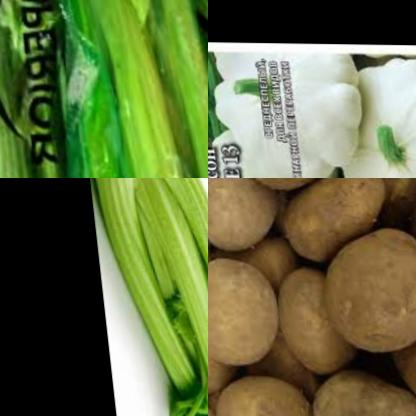celery: (80, 178, 208, 416), (53, 0, 208, 178), (0, 0, 93, 178)
potato: (307, 215, 416, 360), (265, 247, 354, 381), (265, 178, 379, 267), (208, 250, 282, 371), (297, 365, 416, 416), (208, 178, 275, 252), (208, 371, 313, 416), (378, 308, 416, 416), (337, 178, 416, 209), (237, 178, 342, 200), (208, 304, 227, 398), (406, 208, 416, 304)
squash-patisson: (208, 42, 356, 178), (315, 56, 416, 178), (208, 121, 338, 178)
